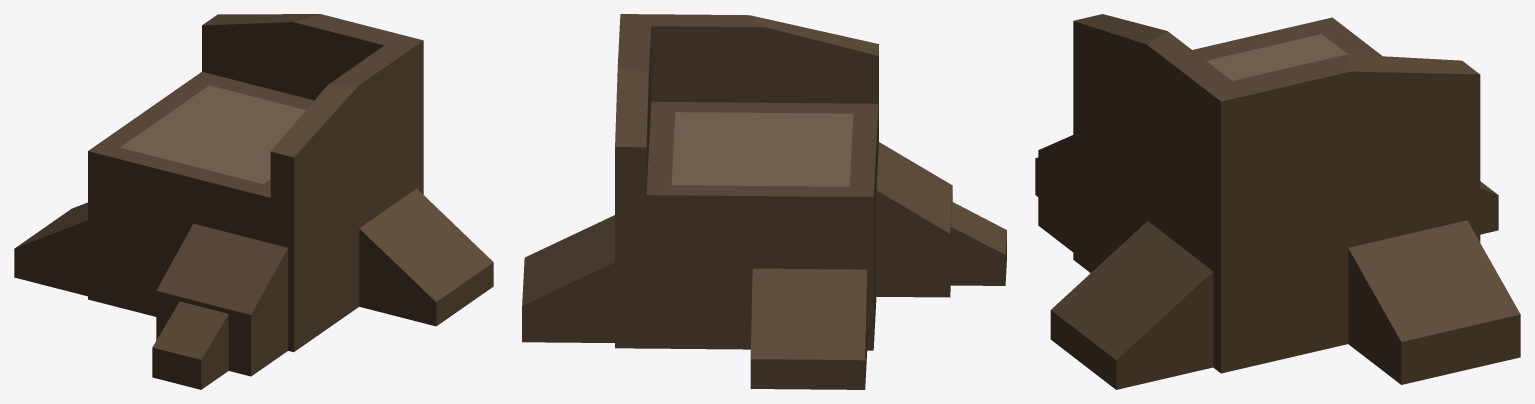
File: SF_Env_Swamp_TreeStump_01.fbx
The picture shows the model from 3 angles, left to right: view 1: azimuth 30°, elevation 25°; view 2: azimuth 150°, elevation 25°; view 3: azimuth 270°, elevation 25°; orthographic projection. The views are drawn at different scales.
Visible parts, largest first — view 1: SF_Env_Swamp_TreeStump_01; view 2: SF_Env_Swamp_TreeStump_01; view 3: SF_Env_Swamp_TreeStump_01.
Part boxes in pixels (box(x1,y1,x2,y2)): SF_Env_Swamp_TreeStump_01: box(14, 14, 493, 389); SF_Env_Swamp_TreeStump_01: box(522, 14, 1006, 389); SF_Env_Swamp_TreeStump_01: box(1035, 14, 1520, 389).
Size of the model in its own units: 2.28 by 1.38 by 2.23.
